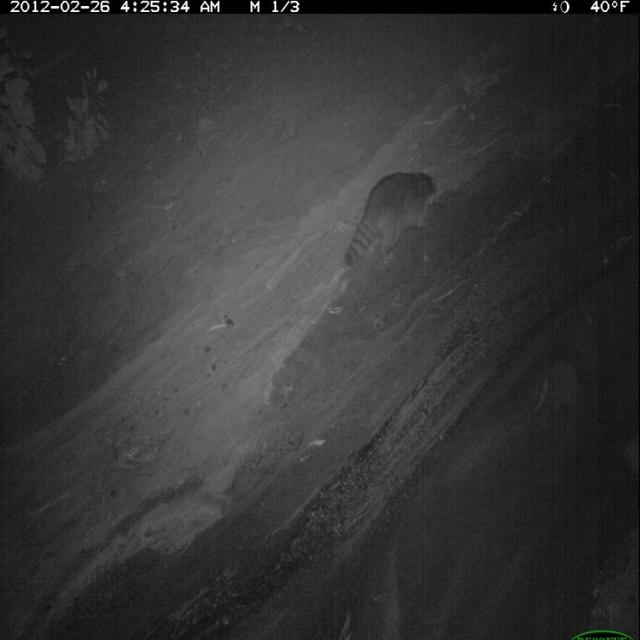raccoon: (341, 168, 441, 274)
